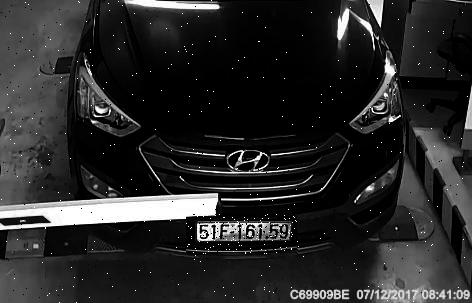License-plate: (188, 216, 300, 256)
